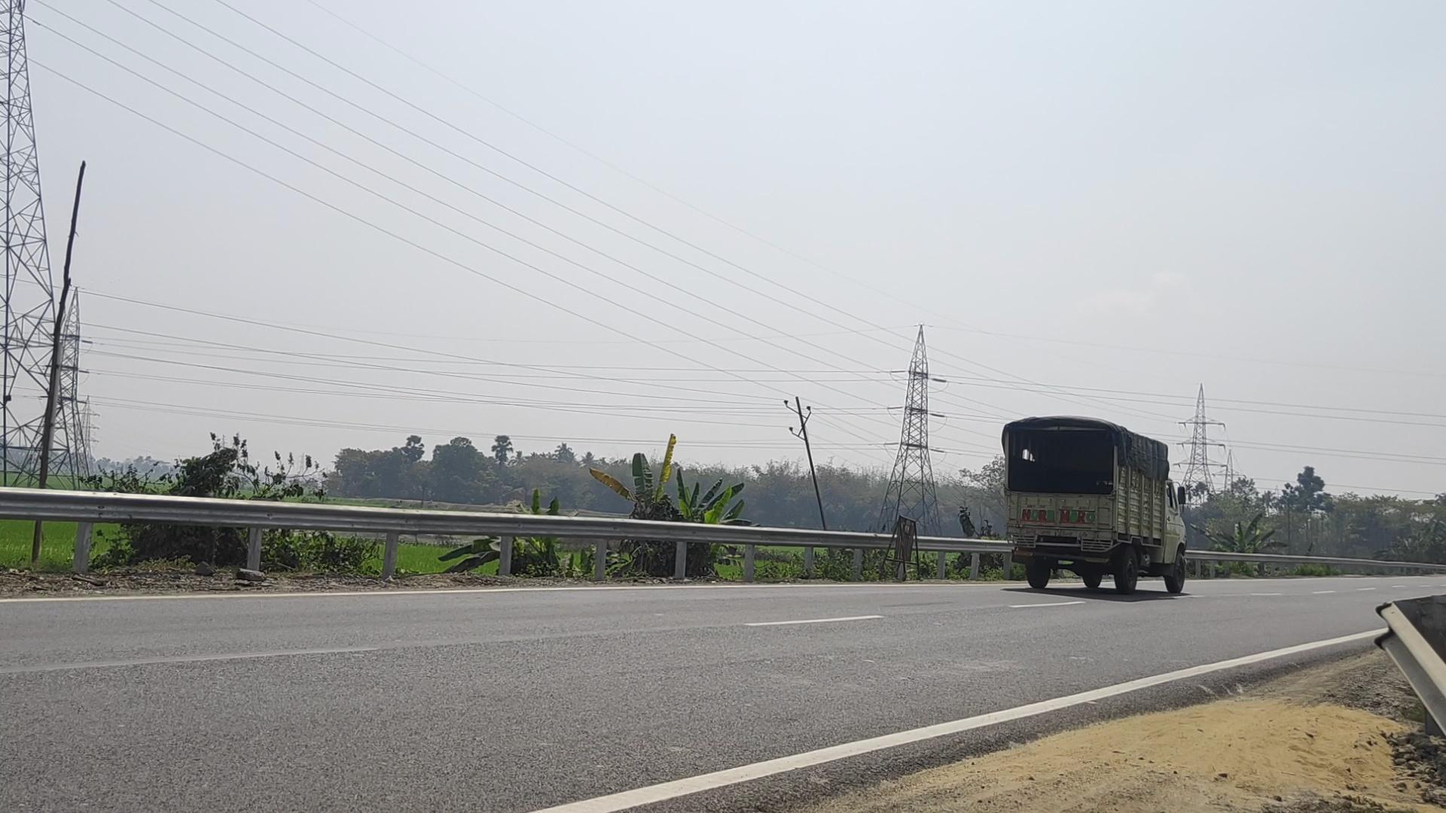truck: (1002, 415, 1188, 595)
